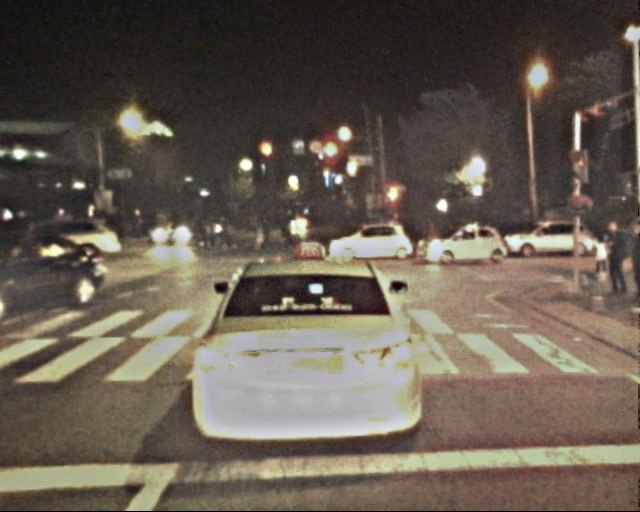person: (597, 221, 628, 297), (180, 216, 235, 251), (591, 234, 610, 281), (244, 211, 261, 252), (276, 216, 292, 254), (146, 218, 160, 251), (259, 219, 271, 248)
